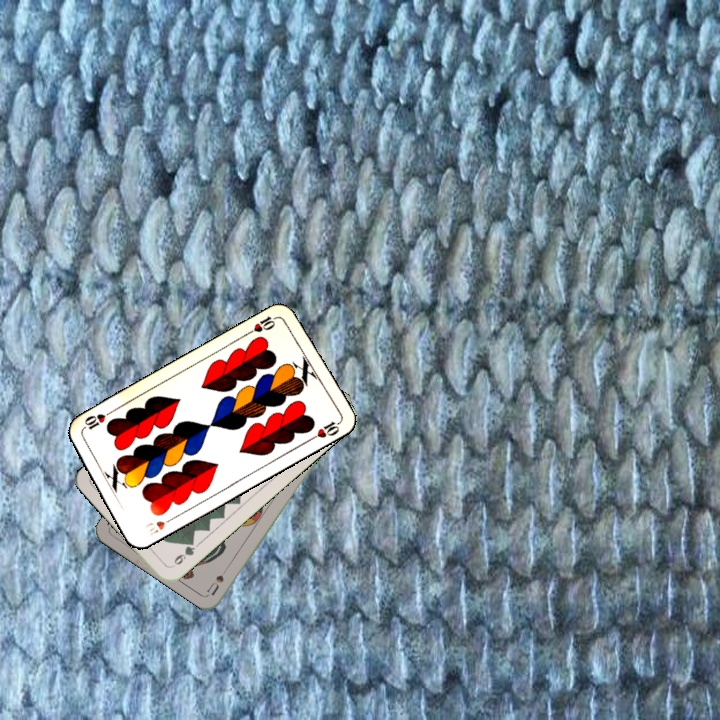G9: (167, 536, 198, 570)
H10: (243, 312, 281, 337), (140, 513, 177, 538)
SU: (203, 570, 227, 598)
